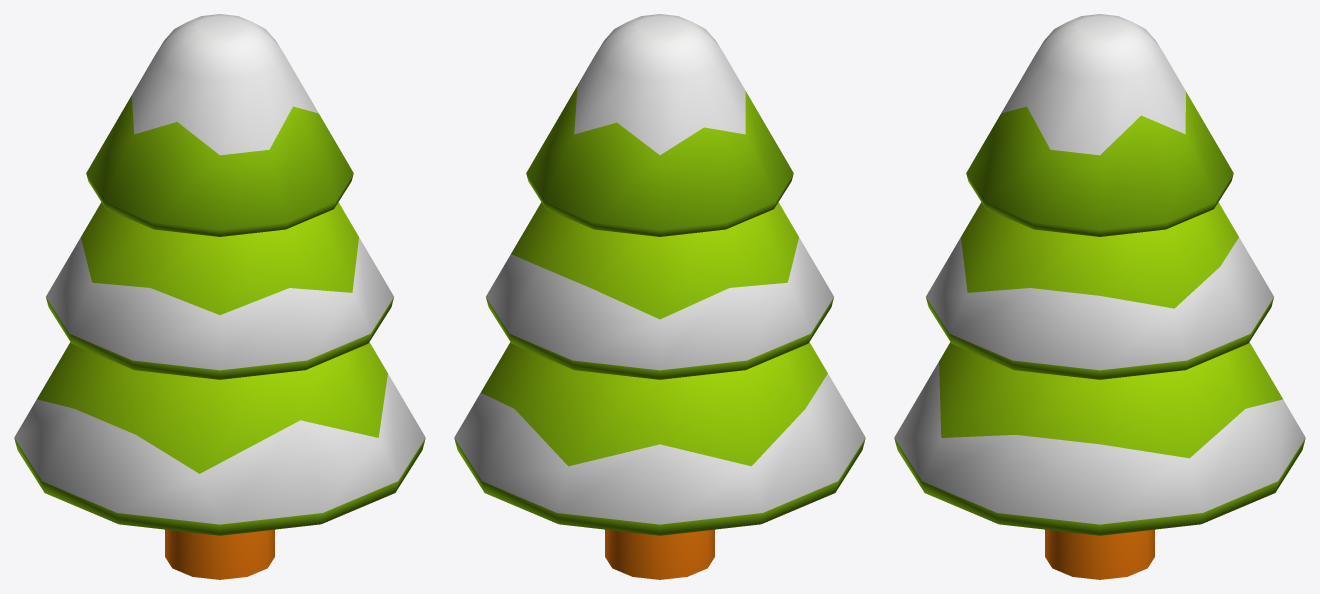
File: Plant_Pine_Ice_01.glb
3 renders of one model, left to right at view 1: azimuth 30°, elevation 25°; view 2: azimuth 150°, elevation 25°; view 3: azimuth 270°, elevation 25°, orthographic.
Parts seen in each view (by area): view 1: Plant_Pine_Ice_01; view 2: Plant_Pine_Ice_01; view 3: Plant_Pine_Ice_01.
Part boxes in pixels (x1=…): Plant_Pine_Ice_01: x1=14, y1=14, x2=425, y2=579; Plant_Pine_Ice_01: x1=454, y1=14, x2=865, y2=579; Plant_Pine_Ice_01: x1=894, y1=14, x2=1305, y2=579.
Size of the model in its own units: 2 by 2.84 by 2.
1 material, 1 textured.
